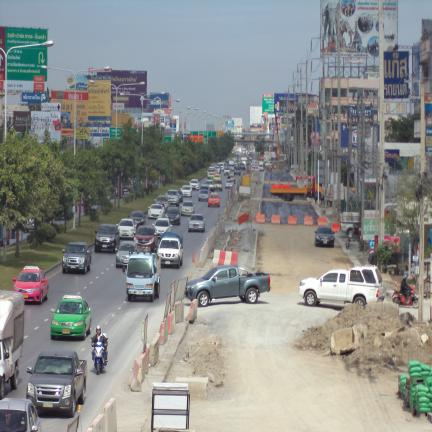car: (62, 242, 92, 274), (158, 234, 183, 268), (95, 224, 119, 252), (134, 226, 157, 252), (116, 240, 135, 268), (314, 226, 334, 247), (118, 218, 135, 239), (153, 217, 171, 236), (188, 214, 205, 232), (128, 211, 145, 227), (165, 206, 180, 224), (155, 195, 170, 211), (148, 204, 165, 218), (181, 200, 194, 215), (181, 185, 192, 197), (199, 188, 209, 201), (190, 179, 200, 190), (200, 184, 210, 193), (225, 179, 234, 188), (207, 171, 214, 180), (213, 174, 221, 181), (172, 233, 174, 234)
human: (92, 325, 107, 364), (401, 274, 410, 302)
motorbike: (391, 286, 418, 307), (94, 342, 106, 375), (94, 342, 105, 375), (103, 333, 108, 340)
pickup: (26, 350, 87, 417), (185, 265, 271, 307), (166, 190, 182, 206), (214, 180, 223, 191), (234, 166, 241, 175)
taxi: (51, 295, 91, 340), (12, 266, 48, 304), (208, 193, 220, 207), (228, 173, 235, 182), (213, 173, 221, 180), (207, 172, 214, 179)
truck: (299, 266, 383, 307), (0, 291, 24, 398), (123, 252, 160, 302), (270, 176, 317, 201), (157, 232, 183, 268), (319, 186, 322, 193)
van: (205, 179, 214, 191)
